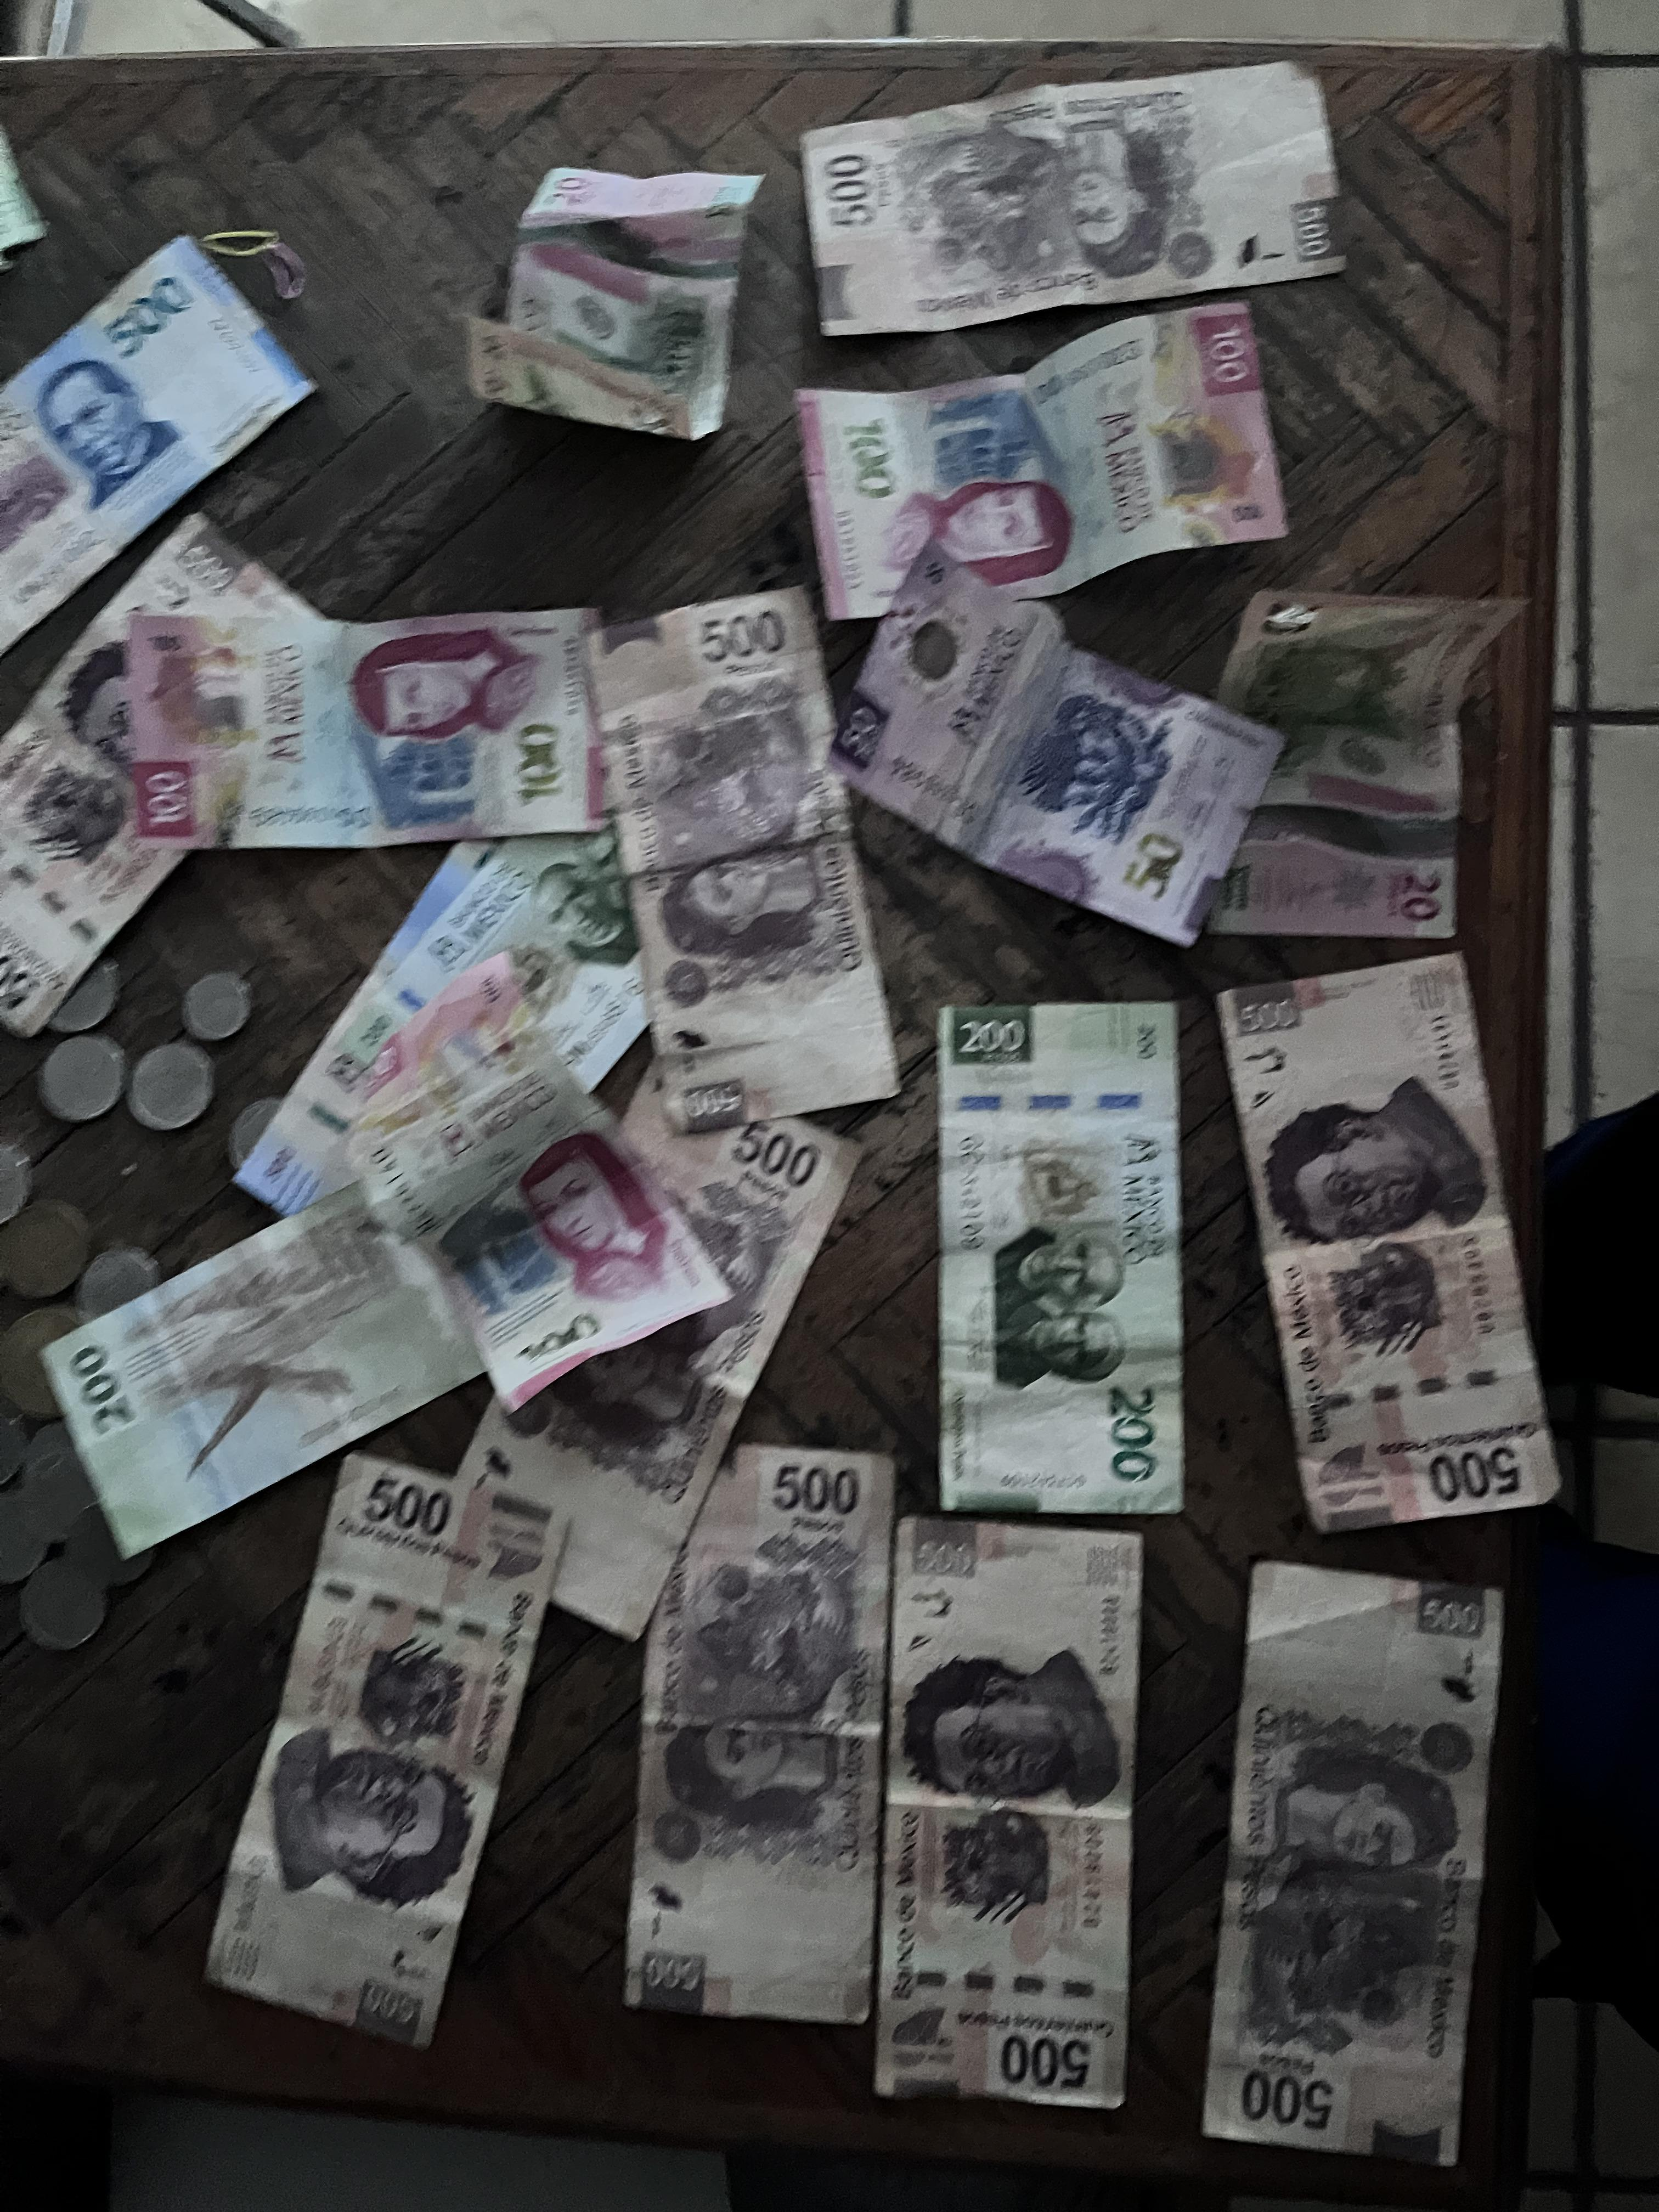100: (335, 958, 742, 1416), (749, 329, 1358, 618), (101, 601, 634, 848)
20: (1180, 540, 1504, 974), (434, 134, 784, 455)
200: (904, 991, 1220, 1548), (28, 1212, 512, 1557), (326, 810, 706, 1158)
50: (793, 524, 1276, 974)
500: (1199, 944, 1581, 1547), (502, 1050, 878, 1656), (1201, 1536, 1549, 2179), (186, 1451, 545, 2027), (608, 1416, 922, 2059), (559, 590, 917, 1153), (775, 44, 1389, 361), (859, 1517, 1175, 2114), (0, 502, 300, 1092)
500 nuevo: (14, 228, 329, 657)
